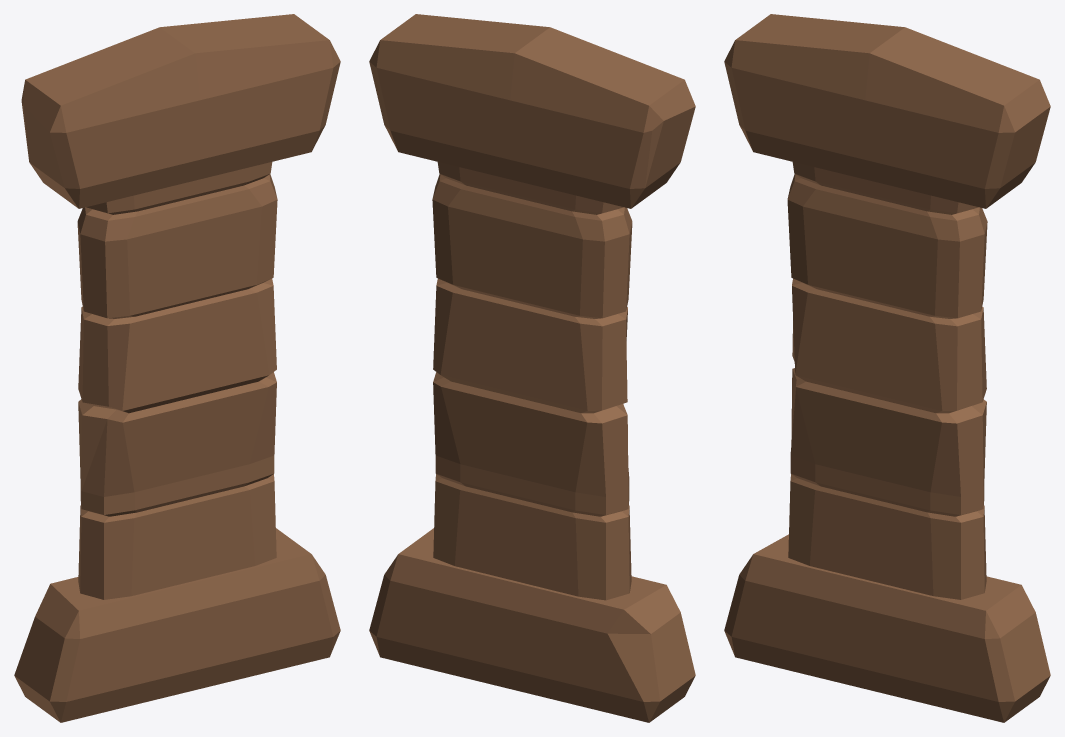
The model's file is columna.fbx.
3 views of the same model, side by side, from view 1: azimuth 30°, elevation 25°; view 2: azimuth 150°, elevation 25°; view 3: azimuth 330°, elevation 25° (orthographic).
Parts seen in each view (by area): view 1: Pillar .029; view 2: Pillar .029; view 3: Pillar .029.
Boxes of the visible parts, left/top/right/bottom form: Pillar .029: left=14, top=14, right=340, bottom=722; Pillar .029: left=369, top=14, right=695, bottom=722; Pillar .029: left=724, top=14, right=1050, bottom=722.
Bounding box in the file's own units: 311 × 650 × 82.84.
